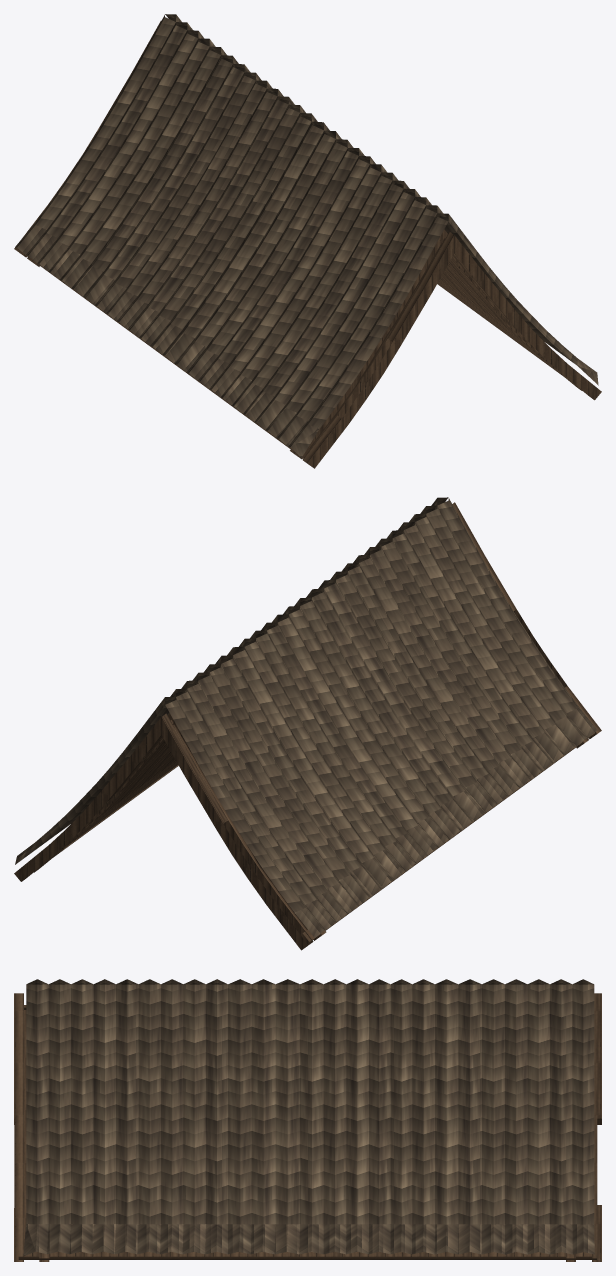
Rendered from Roof_Shingle_6x12.gltf.
3 views of the same model, one above another, from view 1: azimuth 30°, elevation 25°; view 2: azimuth 150°, elevation 25°; view 3: azimuth 270°, elevation 25° (orthographic).
Visible parts, largest first — view 1: Roof_Shingle_6x12; view 2: Roof_Shingle_6x12; view 3: Roof_Shingle_6x12.
Boxes of the visible parts, x1,y1,x2,y2 form: Roof_Shingle_6x12: (14,14,601,468); Roof_Shingle_6x12: (14,497,601,950); Roof_Shingle_6x12: (14,979,601,1261).
Bounding box in the file's own units: 8.25 × 5.42 × 13.66.
Materials: 2 (2 with a texture image).
